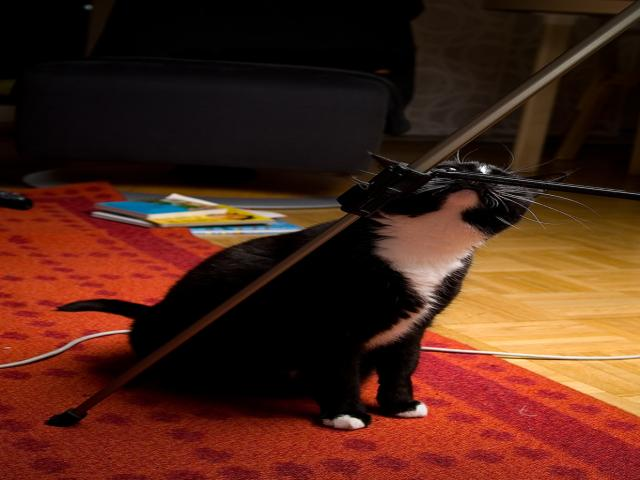Cat: (56, 153, 601, 429)
